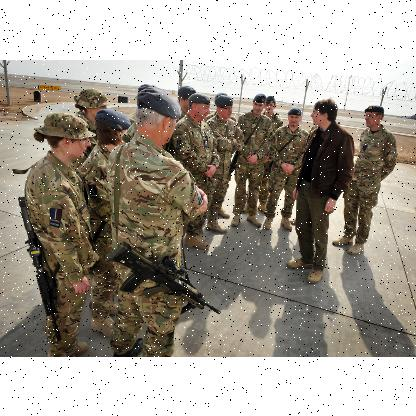gun: (105, 240, 219, 310), (16, 194, 60, 340)
